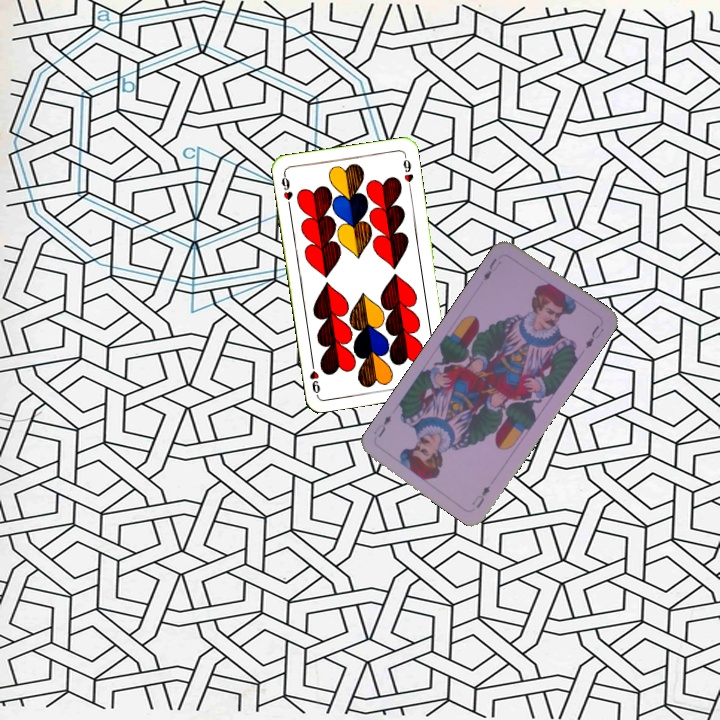EU: (468, 481, 493, 511), (479, 254, 503, 283)
H9: (277, 170, 295, 210)
